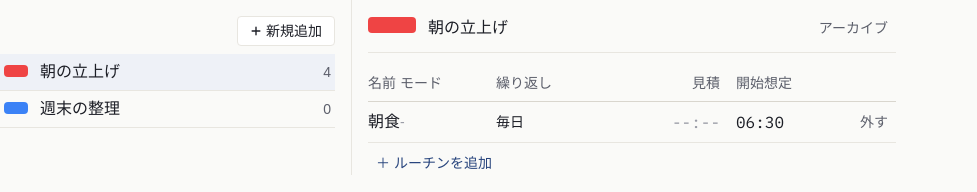
Test case: BundlesBoard（画面定義書05: 左ペインの一覧・作成・アーカイブ・削除／右ペインのヘッダ） › 左ペインでバンドルを切り替えると、そのバンドルのメンバーだけがメンバー表に出る
Expected: the link "朝食" is shown, [368,113,400,130]
Expected: the text "週次レビュー" is not shown
Click the button "週末の整理" at (80, 109), box [40,97,120,121]
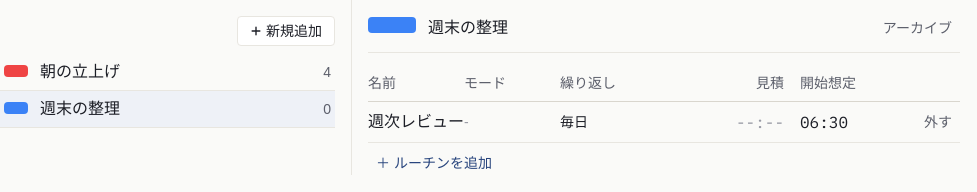
Now the link "週次レビュー" is shown, box [368,113,464,130]
Now the link "朝食" is gone
